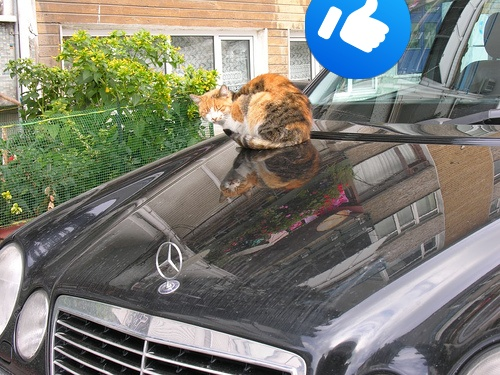like: (305, 0, 411, 79)
